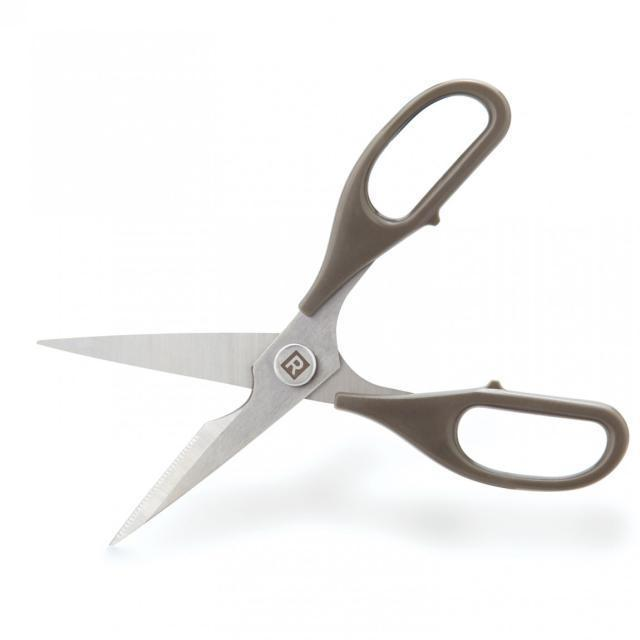scissor: (36, 79, 628, 542)
